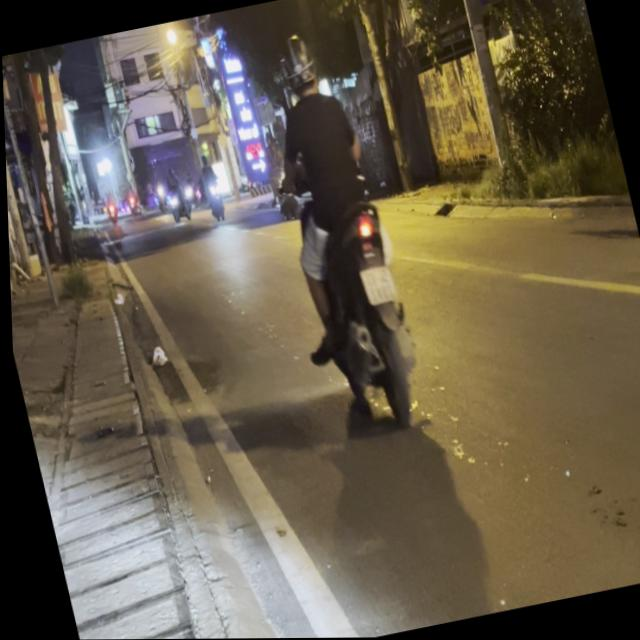helmet: (278, 29, 324, 98)
licenseplate: (240, 20, 434, 440)
nohelmet: (358, 263, 397, 304)
